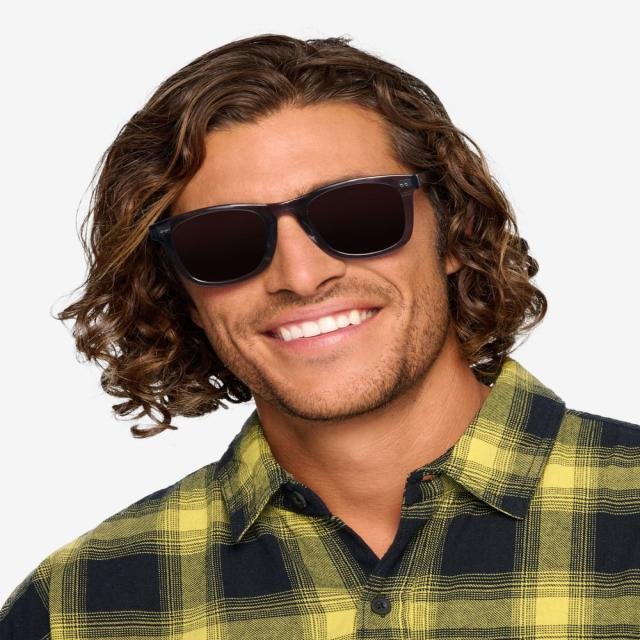2_gafas: (146, 170, 427, 288)
